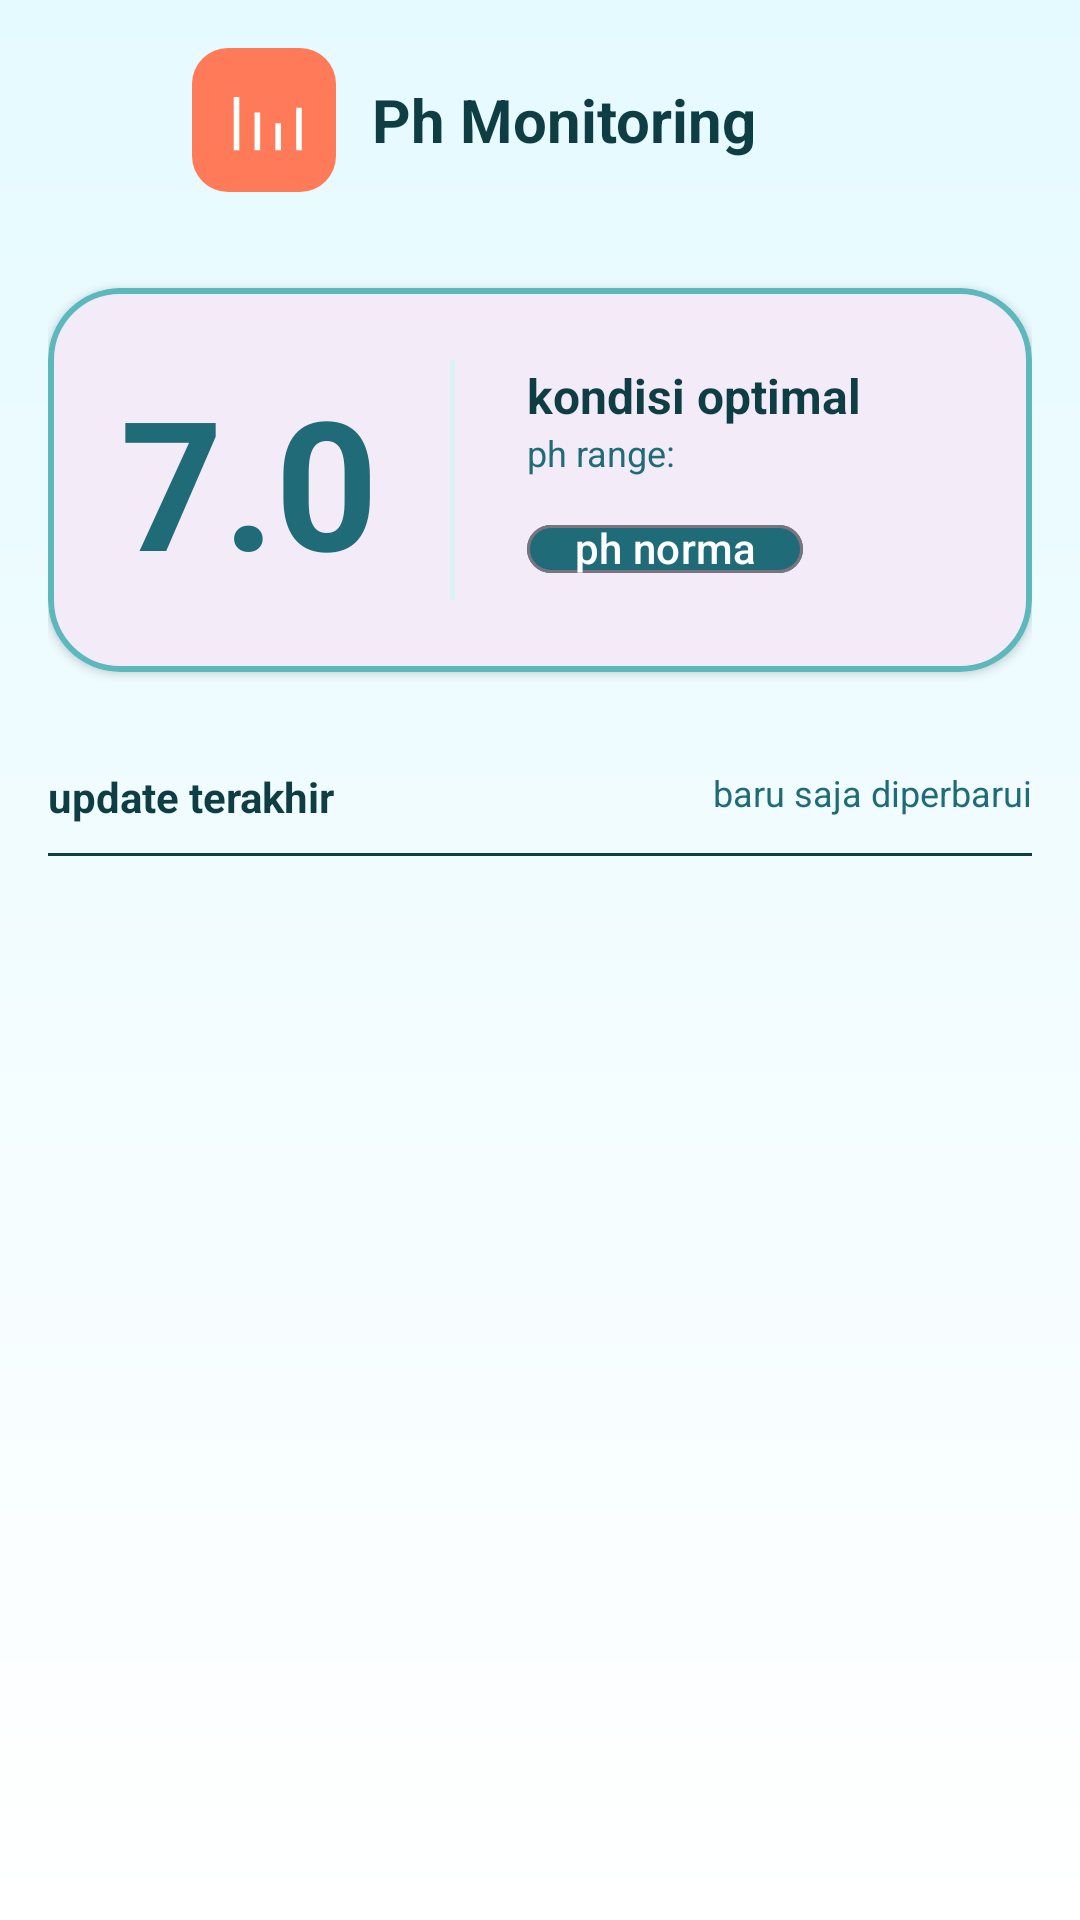

Icons on this 1080w x 1920h Android screen, each with the point to tap as point (x, y):
graph: point (264, 120)
